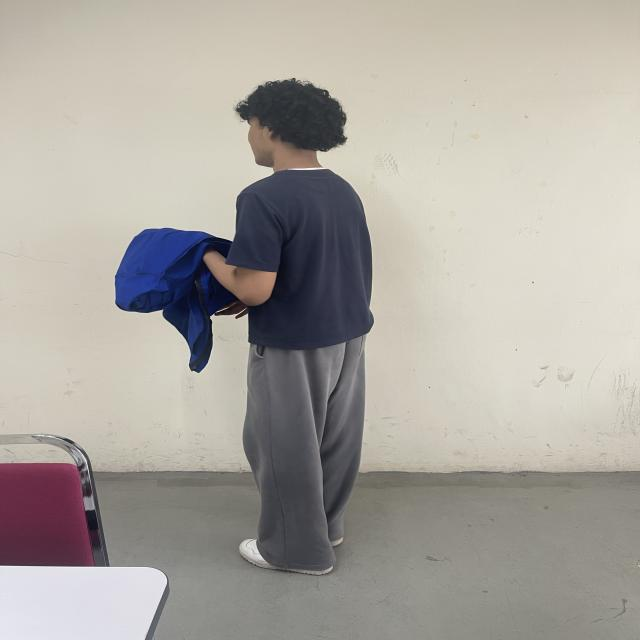person_without_labcoat: (115, 79, 374, 575)
